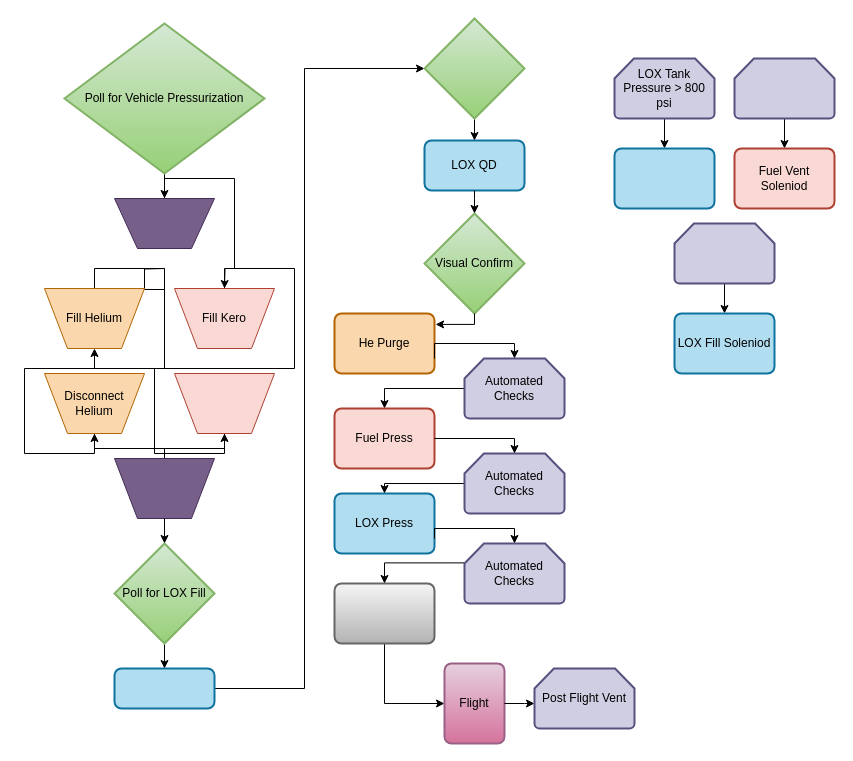
The diagram is 853 pixels wide and 761 high, and some of its shapes have lost their labels. Each missing label, with the centre of its shape:
Call Bunker: the point at 164,223
Disconnect Kero: the point at 224,403
Engine Startup: the point at 384,613
Exit Launch Area: the point at 164,488
Fuel Tank Pressure > 800 psi: the point at 784,88
LOX Fill: the point at 164,688
LOX Tank Pressure > 1200 psi: the point at 724,253
LOX Vent Soleniod: the point at 664,178
Poll for Launch: the point at 474,68
